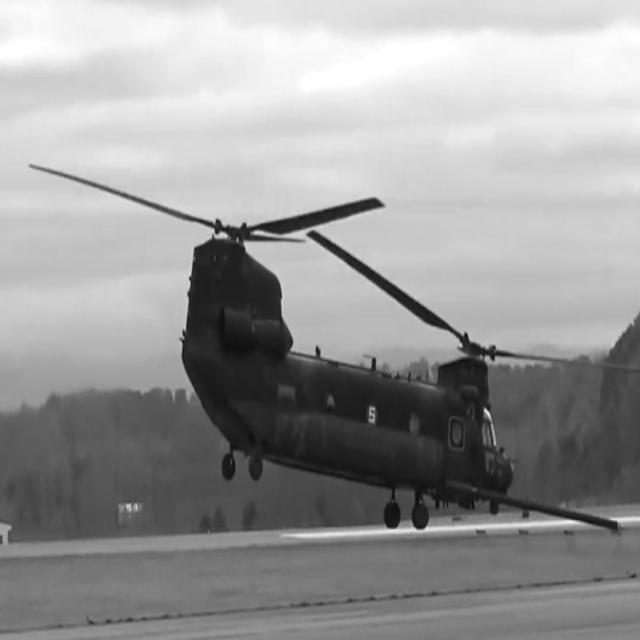Helicopter: (33, 167, 618, 529)
